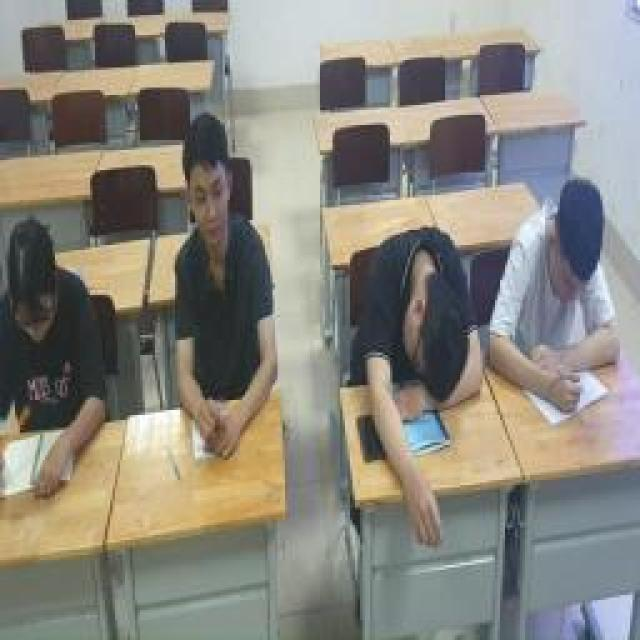sleep: (363, 230, 485, 540)
study: (170, 118, 280, 468), (488, 182, 620, 420), (0, 218, 110, 500)
